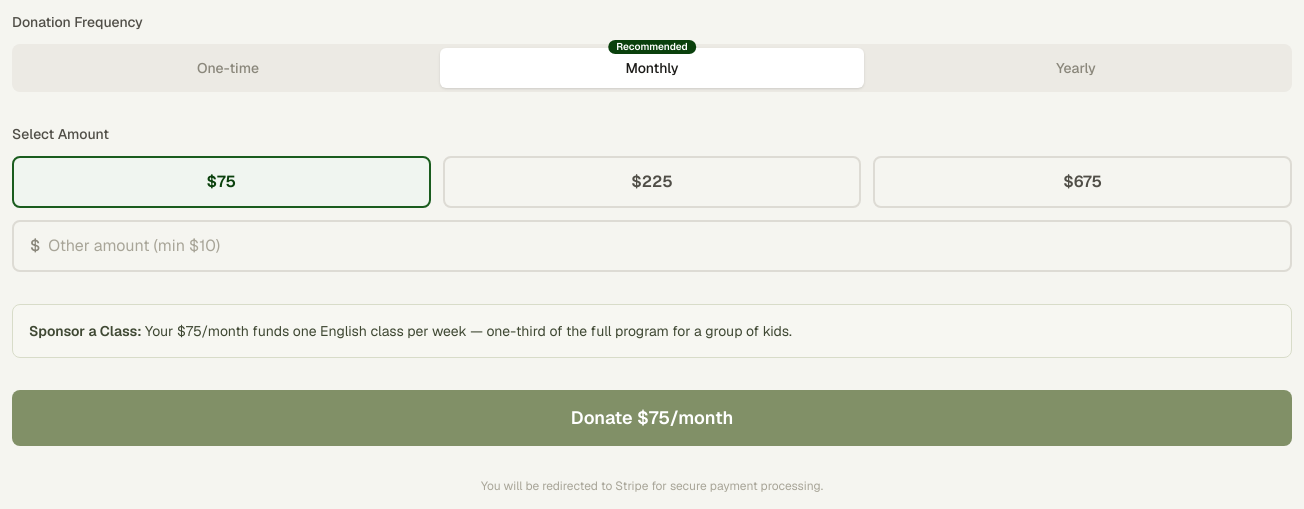
Test: DonationForm › frequency toggle › switches to one-time
Click the button "One-time" at (228, 68), box top-left (16, 48), bottom-right (440, 88)
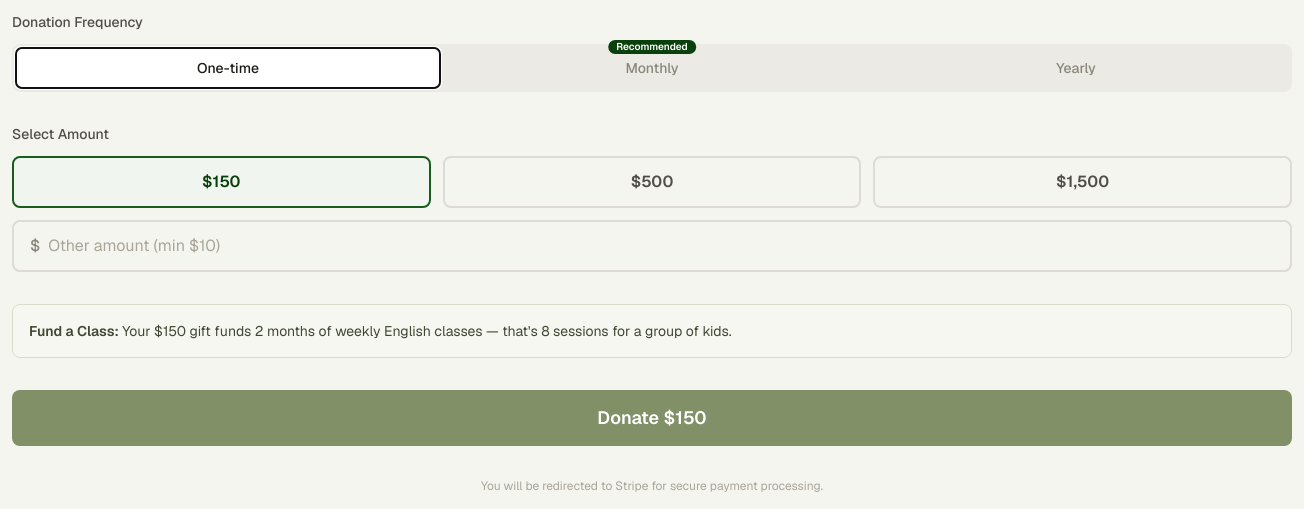
Expected: the button "Donate $150" is shown, top-left (12, 390), bottom-right (1292, 446)
Expected: the text "/month" is gone
